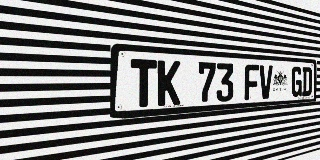3: (216, 63, 234, 102)
7: (197, 62, 216, 103)
D: (302, 67, 312, 96)
F: (244, 64, 259, 100)
G: (291, 66, 302, 97)
K: (157, 60, 181, 106)
T: (130, 59, 157, 108)
V: (259, 65, 273, 99)
